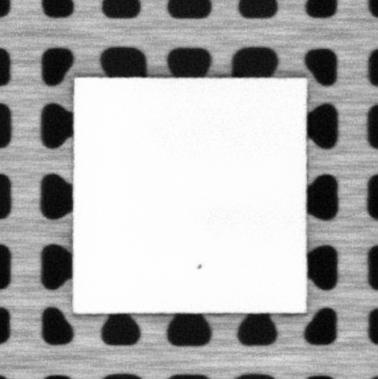DIE_INK: (195, 261, 203, 271)
